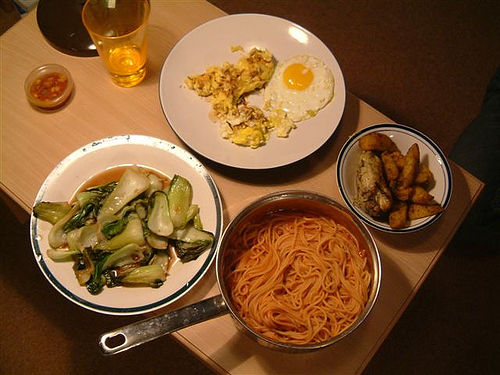egg: (265, 54, 334, 123)
